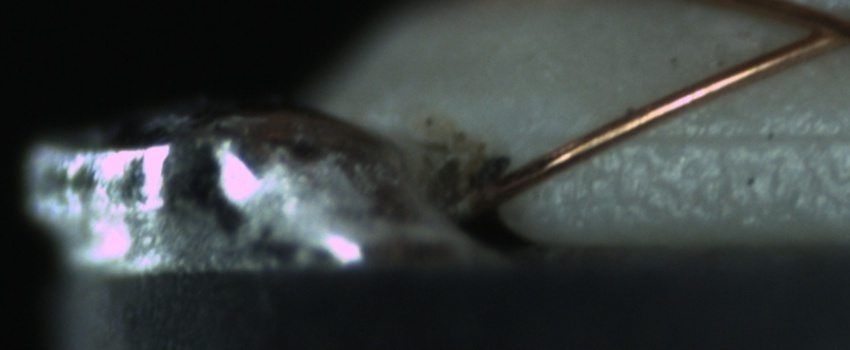CL: (780, 3, 850, 59)
DL: (620, 102, 842, 172)
